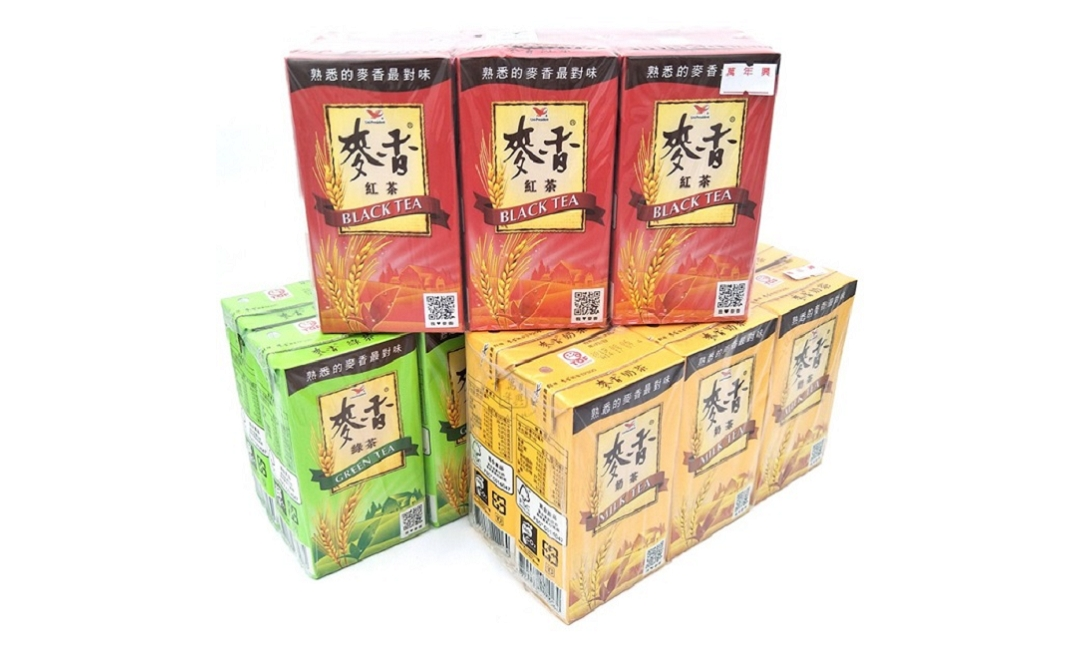鋁箔包: (274, 34, 470, 334), (501, 323, 686, 631), (610, 26, 787, 331), (241, 312, 432, 580), (451, 31, 614, 336), (613, 300, 761, 566), (718, 252, 863, 519), (413, 312, 487, 531)
